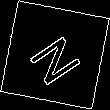N_NE: (22, 24, 88, 86)
